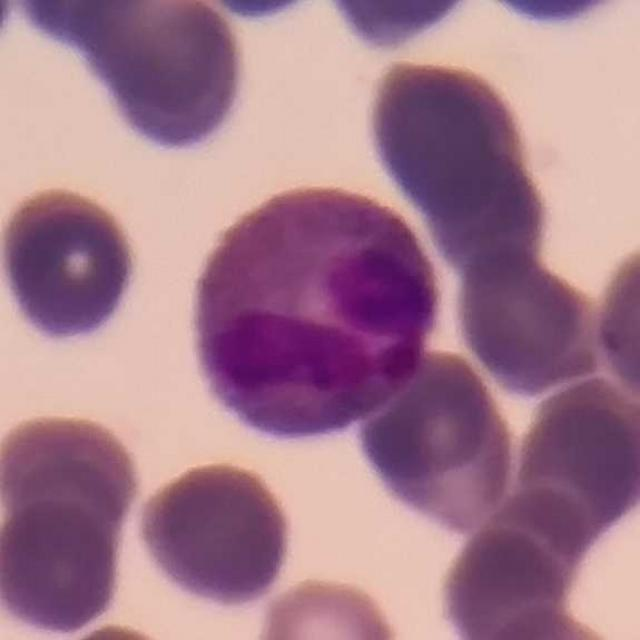Eosinophil: (186, 178, 444, 436)
RBC: (33, 0, 255, 161), (358, 53, 546, 234), (350, 344, 518, 535), (132, 456, 300, 611), (0, 179, 146, 352), (448, 244, 604, 395), (0, 406, 145, 561), (507, 386, 640, 539), (0, 496, 126, 638), (434, 522, 573, 640), (312, 0, 501, 57), (252, 571, 405, 640), (589, 232, 640, 410), (469, 604, 631, 640), (490, 0, 609, 40), (194, 0, 327, 28), (44, 620, 195, 640)
